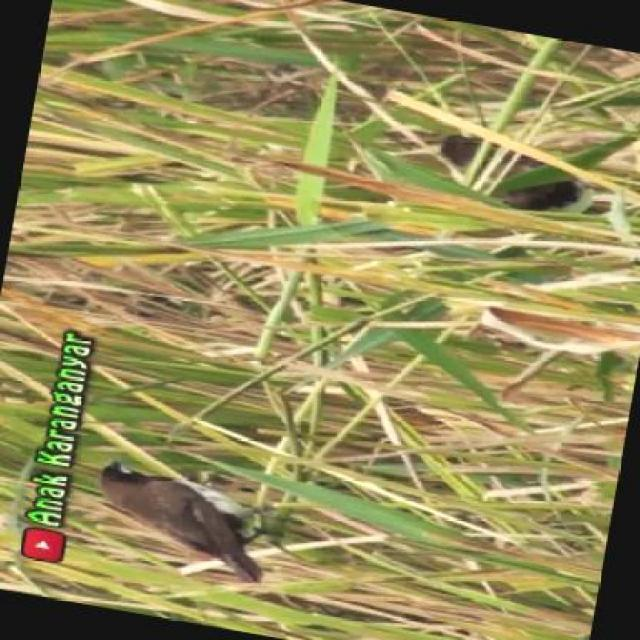Bird: (100, 449, 266, 585)
